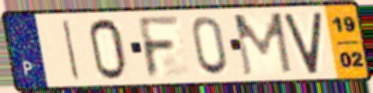0: (87, 17, 130, 82), (190, 15, 230, 77)
F: (136, 14, 183, 81)
I: (60, 17, 82, 82)
M: (231, 11, 295, 79)
V: (282, 9, 324, 76)
